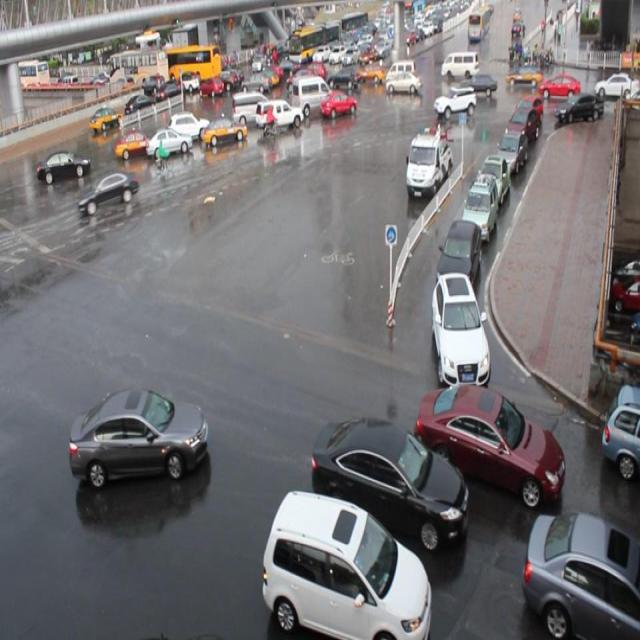BigCar: (166, 43, 223, 78), (466, 5, 494, 46), (291, 28, 323, 63)
car: (261, 490, 432, 640), (308, 402, 465, 550), (424, 369, 569, 503), (521, 502, 639, 640), (66, 392, 211, 495), (432, 277, 491, 390), (402, 110, 456, 198), (77, 175, 144, 215), (439, 217, 480, 281), (465, 175, 501, 236), (556, 90, 609, 129), (33, 145, 90, 180), (254, 96, 305, 134), (434, 81, 480, 122), (199, 116, 248, 152), (142, 130, 193, 164), (319, 86, 362, 123), (501, 126, 528, 176), (112, 129, 149, 164), (356, 50, 384, 94), (441, 50, 481, 78), (384, 72, 421, 100), (544, 69, 578, 98), (89, 105, 124, 132), (509, 61, 542, 88), (125, 91, 153, 113), (159, 76, 182, 102), (201, 77, 226, 98), (330, 44, 345, 67)
